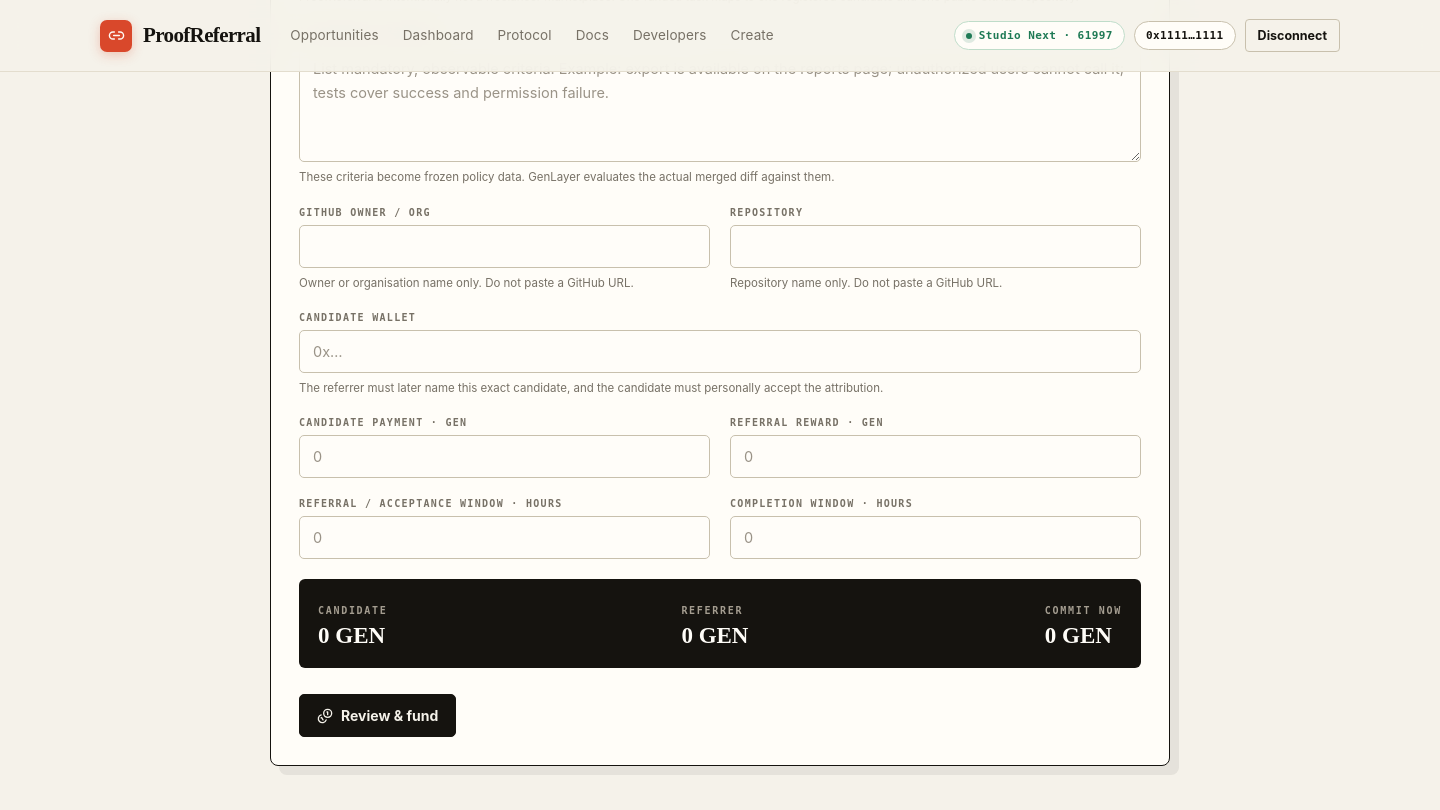
NewOpportunity form validation › rejects a short brief and criteria set
(page scrolled)
Expected: the button "Disconnect" is shown, [1245, 19, 1340, 52]
Click the button "Review & fund".
click(378, 716)  # box [299, 694, 456, 737]
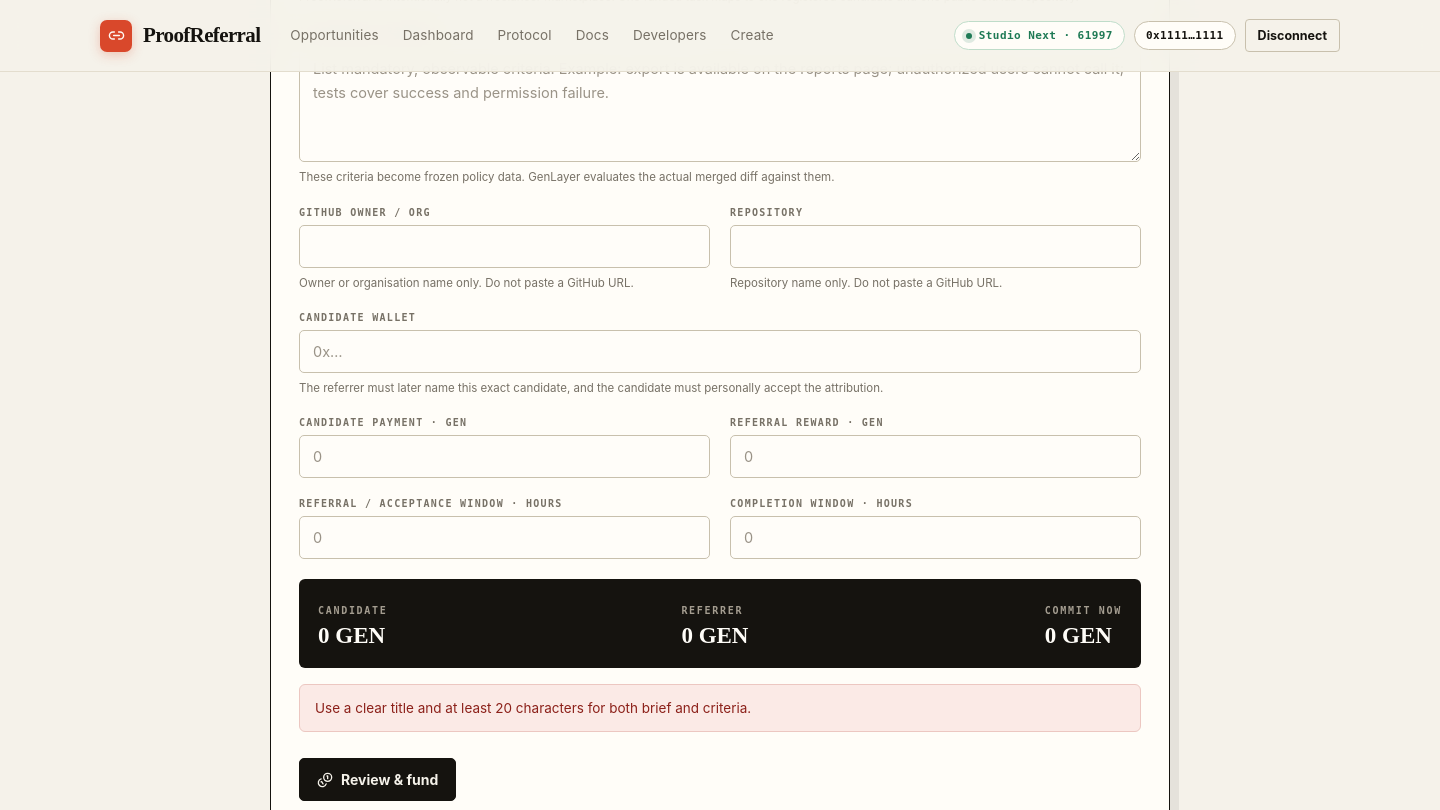
Result: the text "Use a clear title and at least 20 characters for both brief and criteria." is shown at [299, 684, 1141, 732]
